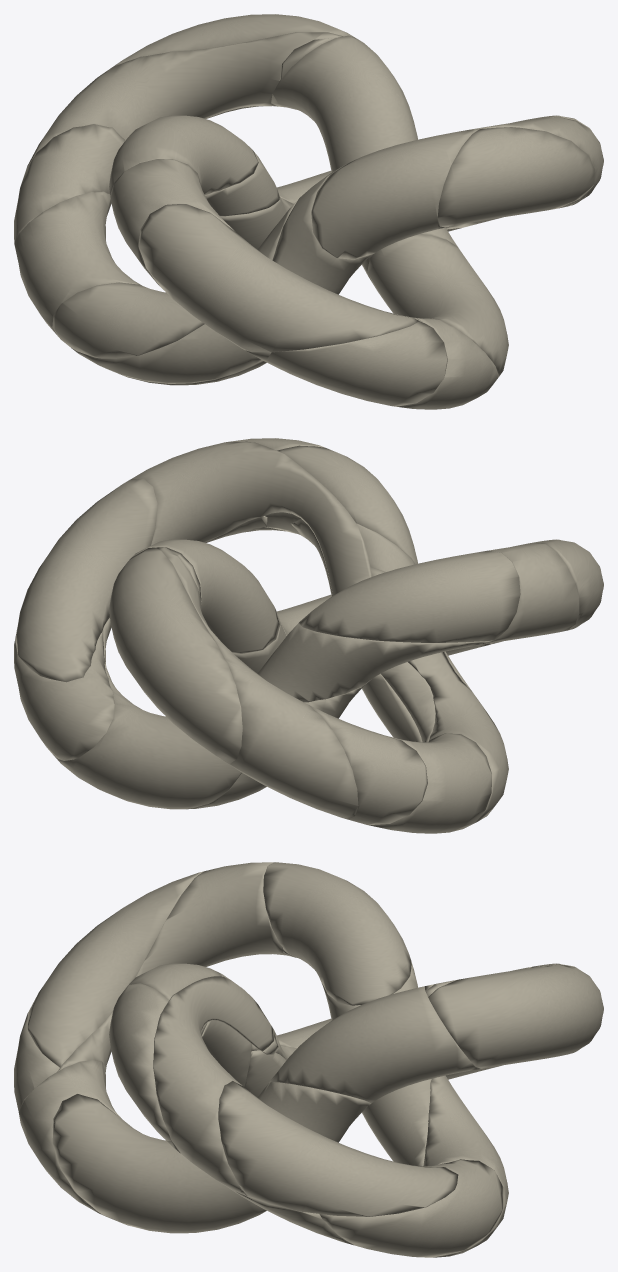
Rendered from fracture-solids.glb.
3 renders of one model, top to bottom at view 1: azimuth 30°, elevation 25°; view 2: azimuth 150°, elevation 25°; view 3: azimuth 270°, elevation 25°, orthographic.
Parts seen in each view (by area): view 1: fragment-016, fragment-023, fragment-024, fragment-025, fragment-011, fragment-009, fragment-015, fragment-001, fragment-014, fragment-020, fragment-021, fragment-026 (+9 smaller); view 2: fragment-017, fragment-004, fragment-018, fragment-020, fragment-023, fragment-012, fragment-019, fragment-013, fragment-011, fragment-001, fragment-021, fragment-024 (+10 smaller); view 3: fragment-018, fragment-009, fragment-020, fragment-004, fragment-011, fragment-017, fragment-016, fragment-005, fragment-013, fragment-025, fragment-003, fragment-008 (+8 smaller).
Boxes of the visible parts, x1,y1,x2,y2 form: fragment-016: [139, 204, 418, 352]; fragment-023: [26, 32, 342, 169]; fragment-024: [311, 129, 479, 259]; fragment-025: [437, 127, 594, 227]; fragment-011: [271, 35, 417, 172]; fragment-009: [367, 234, 508, 376]; fragment-015: [245, 321, 447, 406]; fragment-001: [14, 191, 141, 335]; fragment-014: [52, 199, 298, 358]; fragment-020: [109, 115, 258, 195]; fragment-021: [14, 124, 124, 243]; fragment-026: [71, 324, 261, 383]; fragment-017: [132, 441, 371, 595]; fragment-004: [109, 547, 242, 763]; fragment-018: [15, 478, 157, 682]; fragment-020: [298, 550, 520, 642]; fragment-023: [155, 547, 358, 819]; fragment-012: [53, 650, 241, 809]; fragment-019: [257, 623, 493, 702]; fragment-013: [14, 629, 115, 760]; fragment-011: [133, 539, 280, 653]; fragment-001: [369, 733, 491, 833]; fragment-021: [310, 705, 427, 825]; fragment-024: [265, 445, 417, 564]; fragment-018: [218, 1081, 458, 1216]; fragment-009: [52, 1094, 266, 1233]; fragment-020: [263, 862, 411, 1005]; fragment-004: [428, 964, 603, 1068]; fragment-011: [269, 986, 480, 1103]; fragment-017: [153, 976, 274, 1195]; fragment-016: [27, 871, 203, 1067]; fragment-005: [57, 862, 288, 1071]; fragment-013: [319, 1159, 503, 1257]; fragment-025: [109, 983, 171, 1140]; fragment-003: [220, 1079, 431, 1245]; fragment-008: [18, 1059, 128, 1225].
Bounding box in the file's own units: 0.1533 × 0.0728 × 0.16.
1 material, 1 textured.
